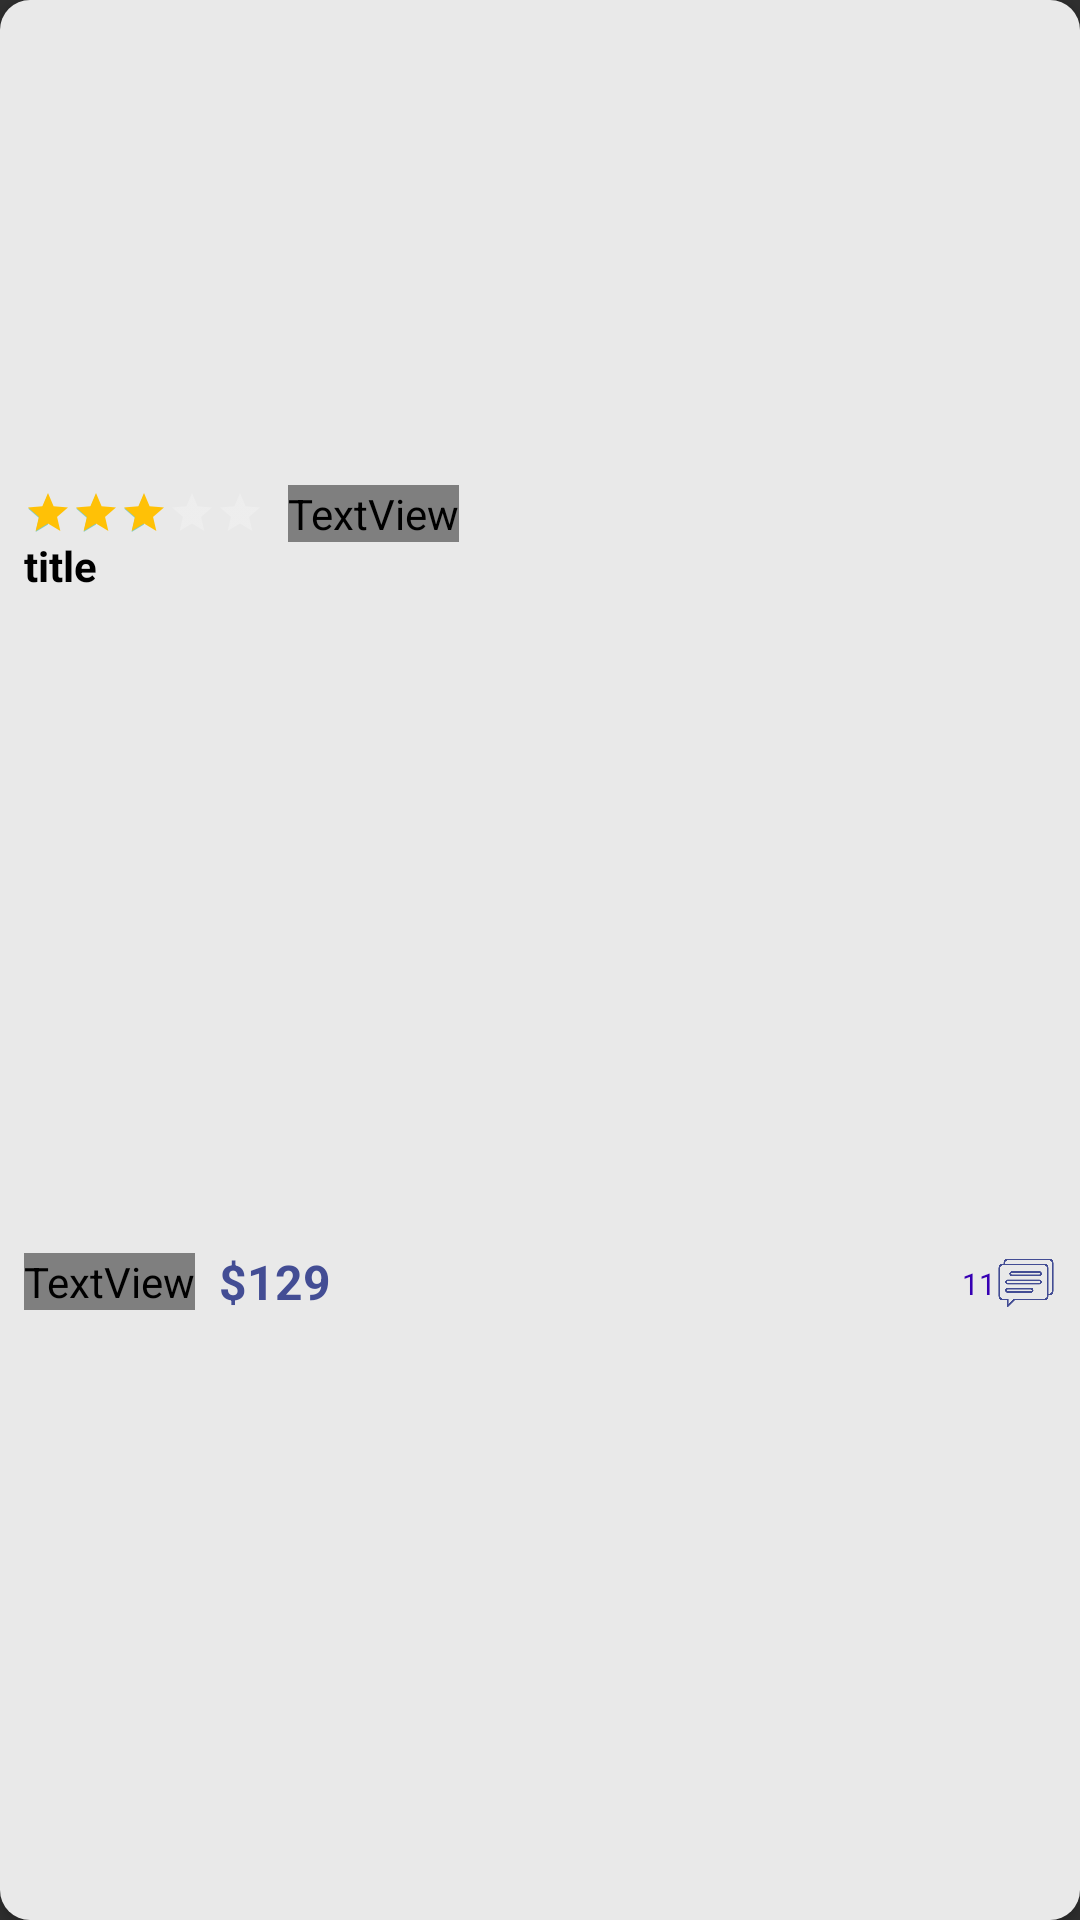

Named icons in this screenshot (1080×1920) and their bounding boxes, detection(x1, y1, x2, y2):
comment: detection(998, 1259, 1054, 1307)
